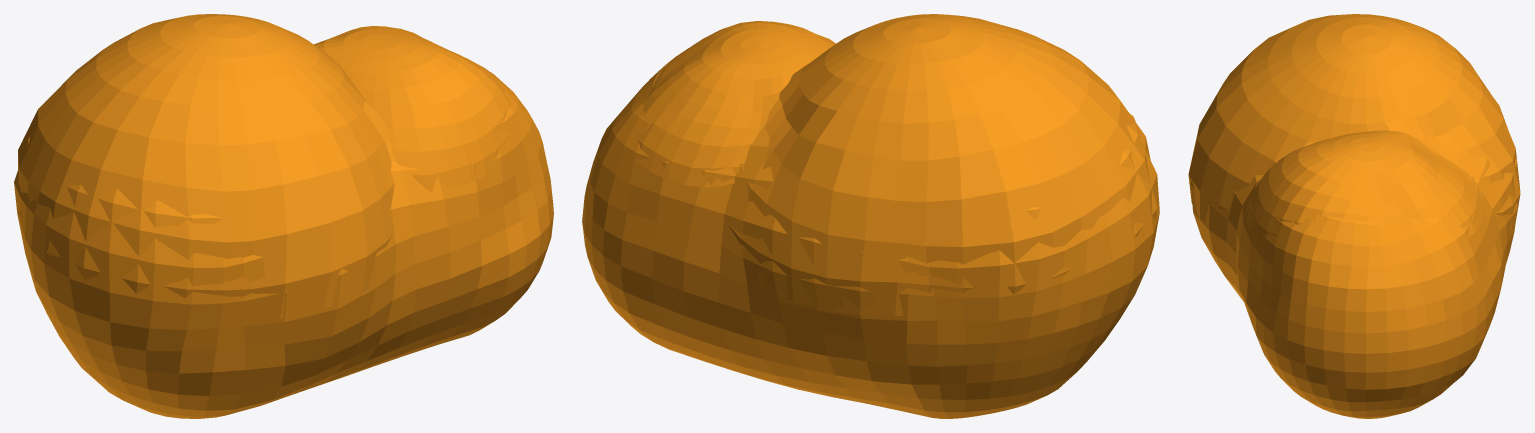
3 views of the same model, side by side, from view 1: azimuth 30°, elevation 25°; view 2: azimuth 150°, elevation 25°; view 3: azimuth 270°, elevation 25° (orthographic). The views are drawn at different scales.
Visible parts, largest first — view 1: Sphere.001; view 2: Sphere.001; view 3: Sphere.001.
Part boxes in pixels (box(x1,y1,x2,y2)): Sphere.001: box(14, 14, 553, 418); Sphere.001: box(582, 14, 1159, 418); Sphere.001: box(1188, 14, 1520, 418).
Size of the model in its own units: 4.36 by 2.99 by 2.99.
